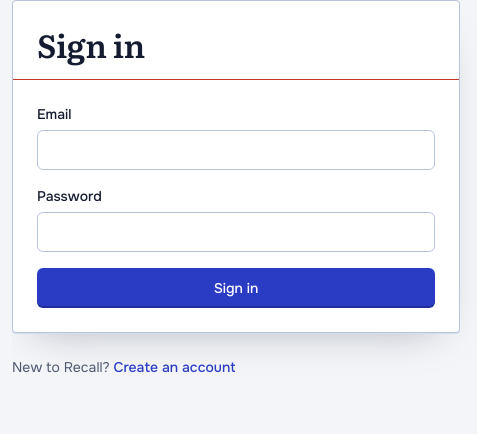
Test case: LoginForm › rejects a malformed email
The image size is (477, 434).
Type "not-an-email" into the field labelled "Email".
click(236, 150); type("not-an-email")  # box [37,130,435,170]
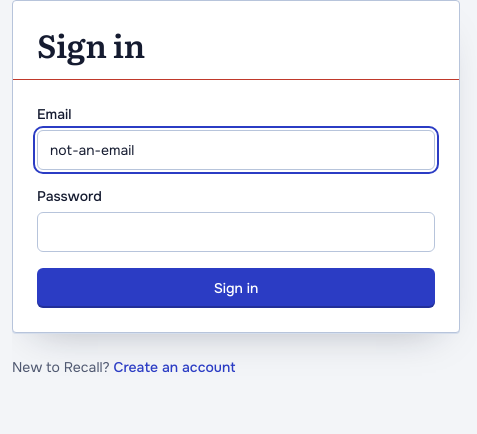
Click the button "Sign in".
click(236, 288)  # box [37,268,435,308]
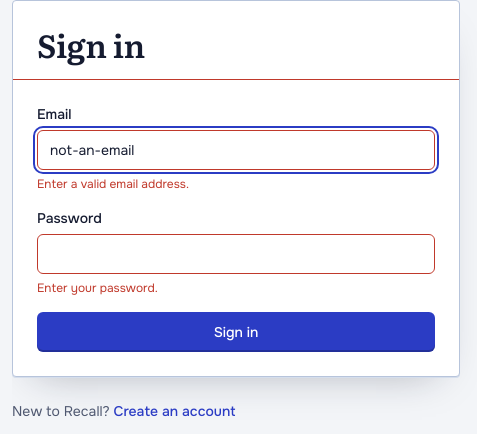
expect the text "Enter a valid email address." is shown: met, box [37,176,189,192]
